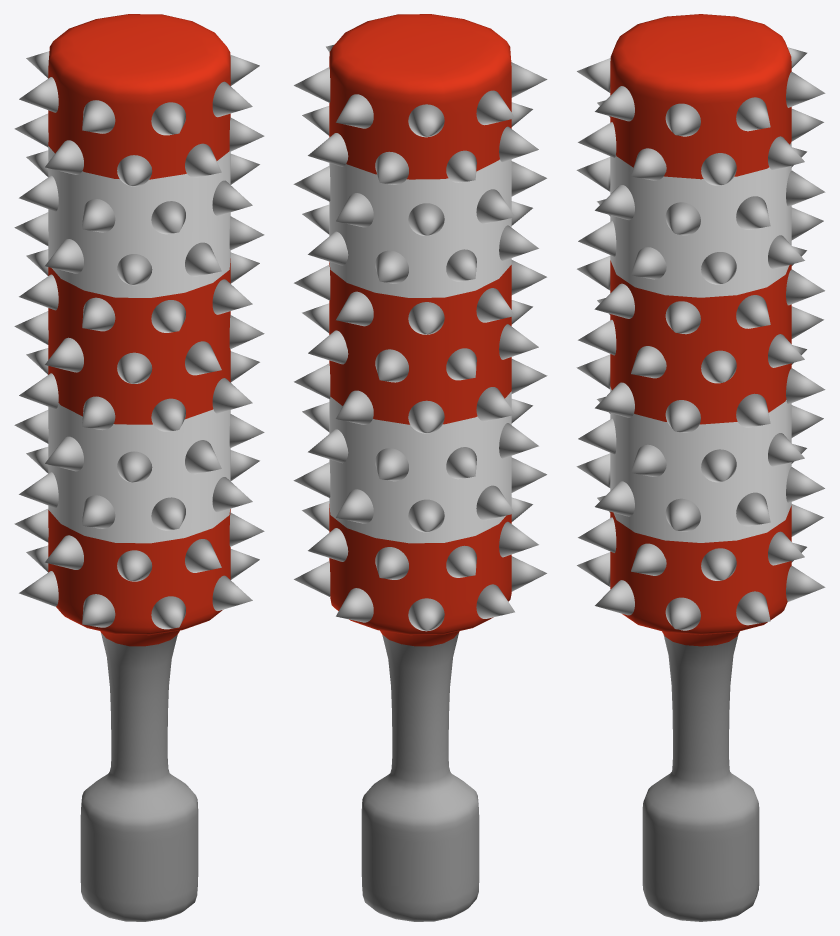
The model's file is red-spike-trap.glb.
3 renders of one model, left to right at view 1: azimuth 30°, elevation 25°; view 2: azimuth 150°, elevation 25°; view 3: azimuth 270°, elevation 25°, orthographic.
Visible parts, largest first — view 1: Trap_spike_tall_red.001; view 2: Trap_spike_tall_red.001; view 3: Trap_spike_tall_red.001.
Part boxes in pixels (x1,y1,x2,y2): Trap_spike_tall_red.001: [14, 14, 264, 921]; Trap_spike_tall_red.001: [293, 14, 547, 921]; Trap_spike_tall_red.001: [576, 14, 825, 921].
Bounding box in the file's own units: 0.3434 × 1.31 × 0.3434.
1 material, 1 textured.
